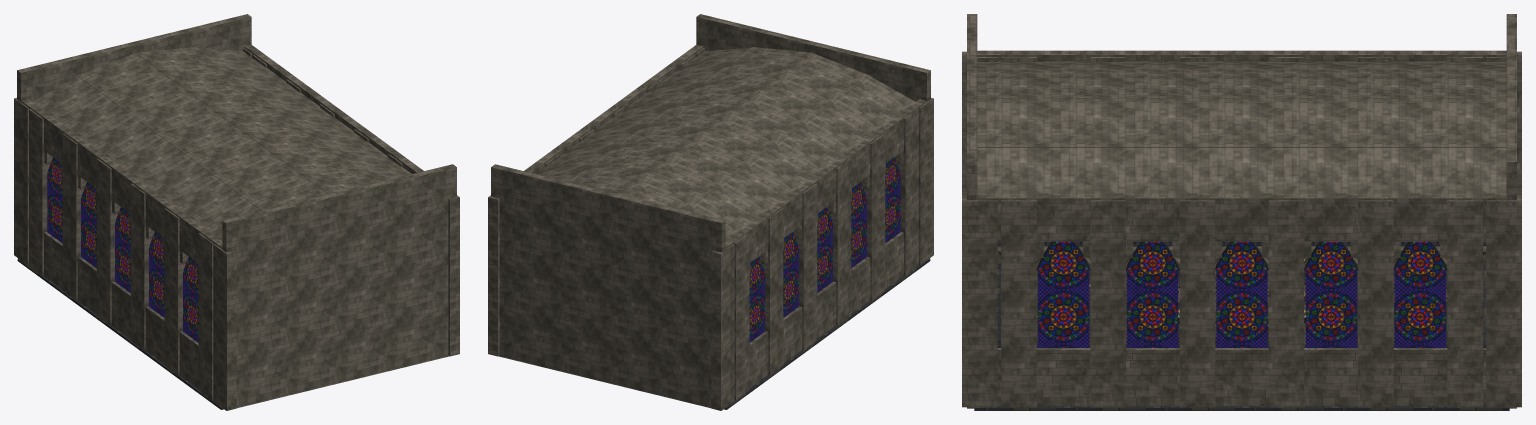
File: gothic_cathedral_webp.glb
3 renders of one model, left to right at view 1: azimuth 30°, elevation 25°; view 2: azimuth 150°, elevation 25°; view 3: azimuth 270°, elevation 25°, orthographic. The views are drawn at different scales.
Visible parts, largest first — view 1: Cathedral_Gothic_Stone_Mat, Cathedral_Stained_Glass_Mat, Cathedral_Cathedral_Floor_Mat; view 2: Cathedral_Gothic_Stone_Mat, Cathedral_Stained_Glass_Mat, Cathedral_Cathedral_Floor_Mat; view 3: Cathedral_Gothic_Stone_Mat, Cathedral_Stained_Glass_Mat, Cathedral_Cathedral_Floor_Mat, Cathedral_Board_Frame_Mat.
Part boxes in pixels (x1=…): Cathedral_Gothic_Stone_Mat: x1=14, y1=14, x2=459, y2=410; Cathedral_Stained_Glass_Mat: x1=47, y1=158, x2=198, y2=342; Cathedral_Cathedral_Floor_Mat: x1=17, y1=258, x2=223, y2=409; Cathedral_Gothic_Stone_Mat: x1=488, y1=14, x2=933, y2=410; Cathedral_Stained_Glass_Mat: x1=749, y1=158, x2=900, y2=342; Cathedral_Cathedral_Floor_Mat: x1=724, y1=258, x2=930, y2=409; Cathedral_Gothic_Stone_Mat: x1=962, y1=14, x2=1521, y2=408; Cathedral_Stained_Glass_Mat: x1=1038, y1=241, x2=1445, y2=347; Cathedral_Cathedral_Floor_Mat: x1=974, y1=263, x2=1509, y2=410; Cathedral_Board_Frame_Mat: x1=997, y1=241, x2=1486, y2=347.
Size of the model in its own units: 32 by 24.5 by 50.2.
Materials: 9 (5 with a texture image).
